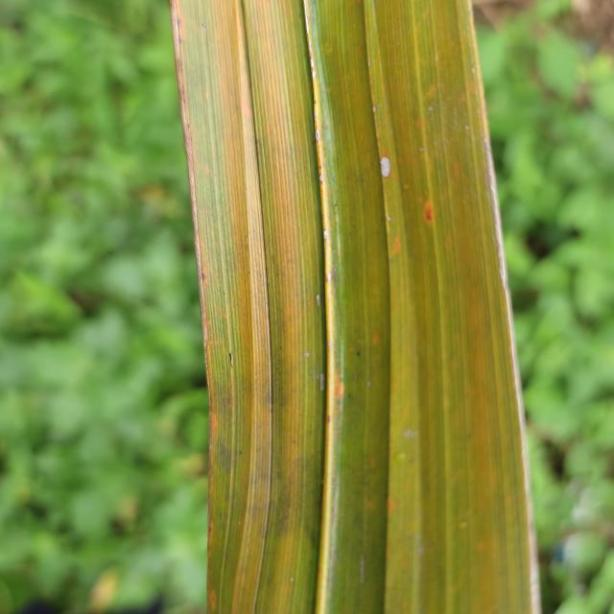Megnesium: (169, 0, 539, 614)
